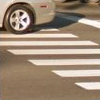crosswalk: (0, 33, 100, 91)
